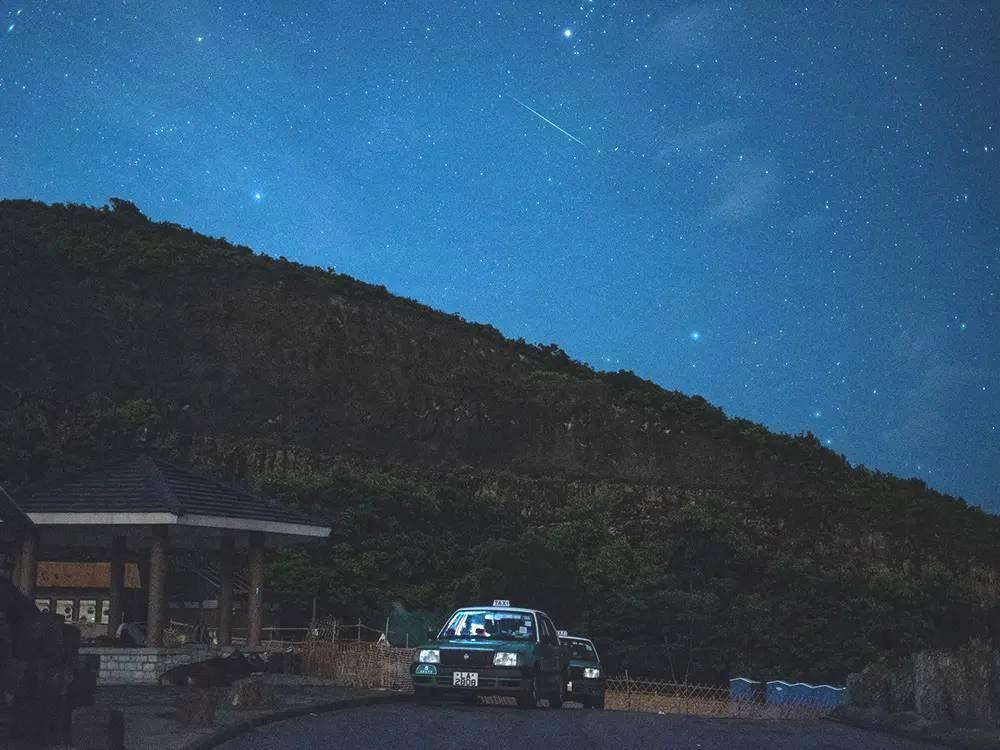meteorite: (499, 84, 600, 155)
